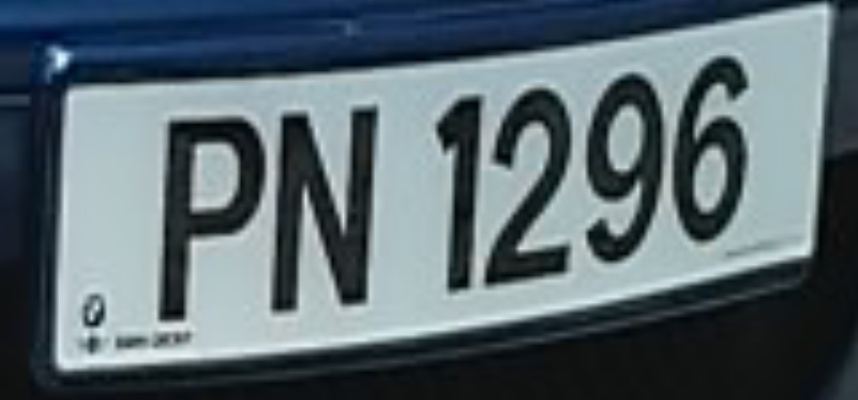1: (422, 73, 495, 318)
2: (488, 63, 582, 304)
6: (669, 37, 758, 258)
9: (579, 56, 672, 277)
N: (276, 83, 399, 338)
P: (139, 93, 275, 352)
